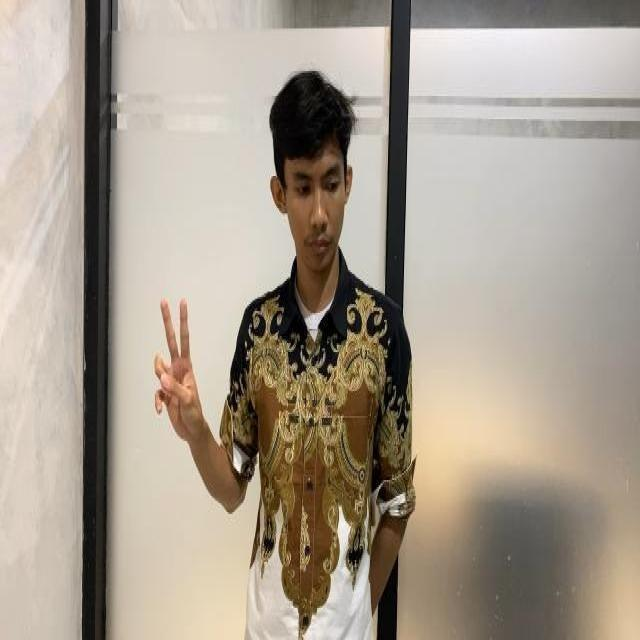V: (139, 287, 211, 457)
